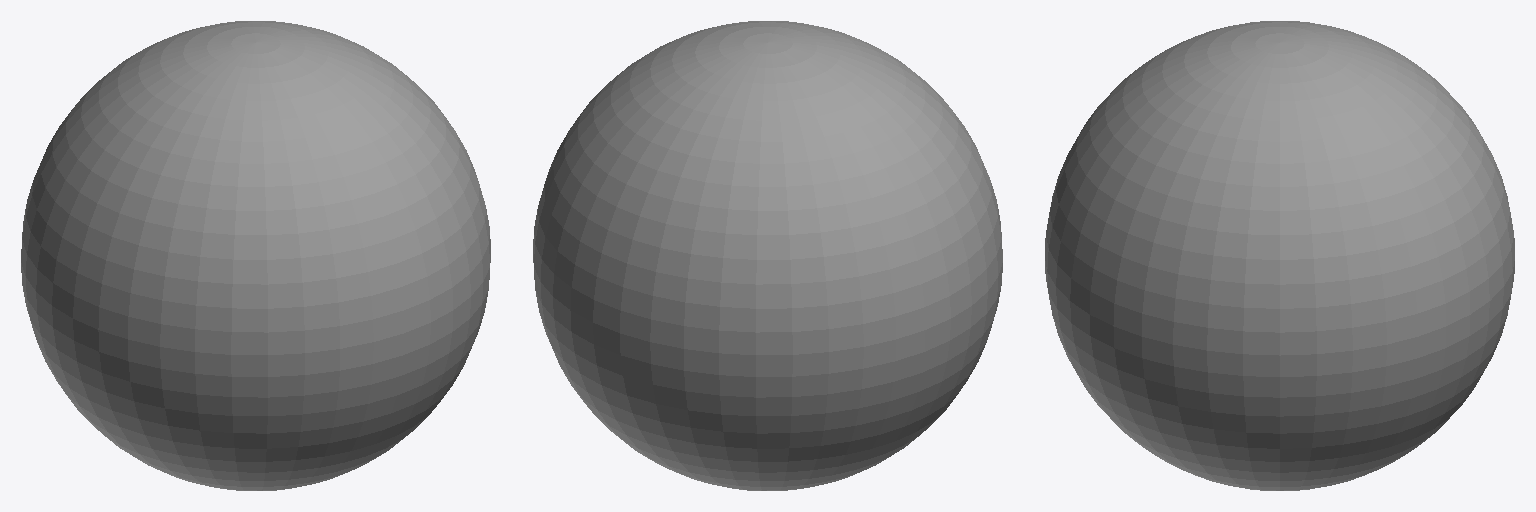
The model's file is SkyboxBackdrop5.obj.
3 renders of one model, left to right at view 1: azimuth 30°, elevation 25°; view 2: azimuth 150°, elevation 25°; view 3: azimuth 270°, elevation 25°, orthographic.
Visible parts, largest first — view 1: SkyboxBackdrop5_skydome.005; view 2: SkyboxBackdrop5_skydome.005; view 3: SkyboxBackdrop5_skydome.005.
Boxes of the visible parts, box(x1,y1,x2,y2) form: SkyboxBackdrop5_skydome.005: box(21, 21, 490, 490); SkyboxBackdrop5_skydome.005: box(533, 21, 1002, 490); SkyboxBackdrop5_skydome.005: box(1045, 21, 1514, 490).
Bounding box in the file's own units: 49.17 × 49.17 × 49.17.